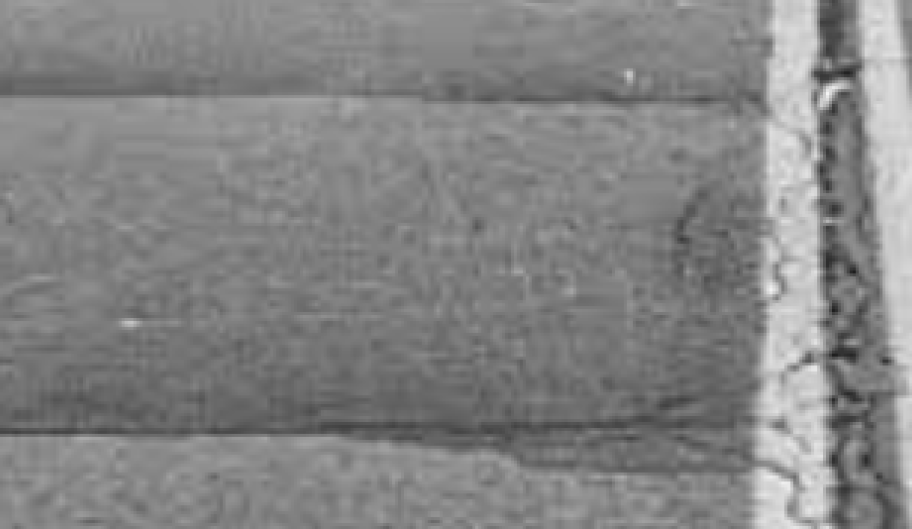Retak Melintang: (2, 54, 888, 527)
